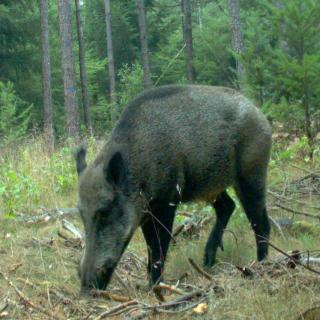Pig: (30, 58, 302, 298)
